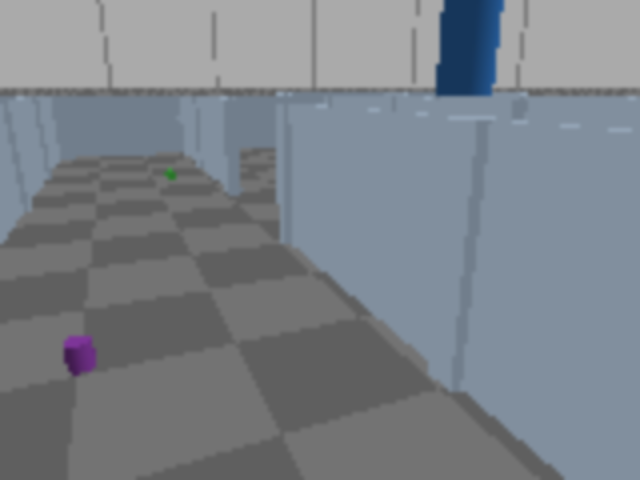puck: (63, 336, 95, 372)
